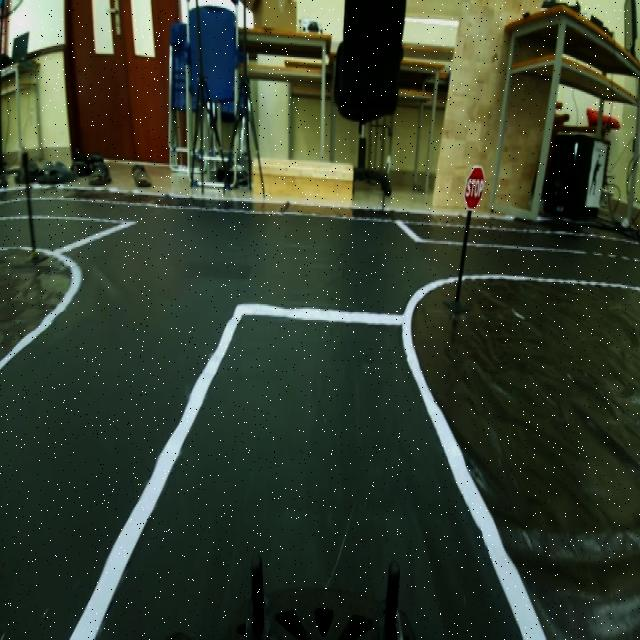stop: (458, 162, 488, 213)
